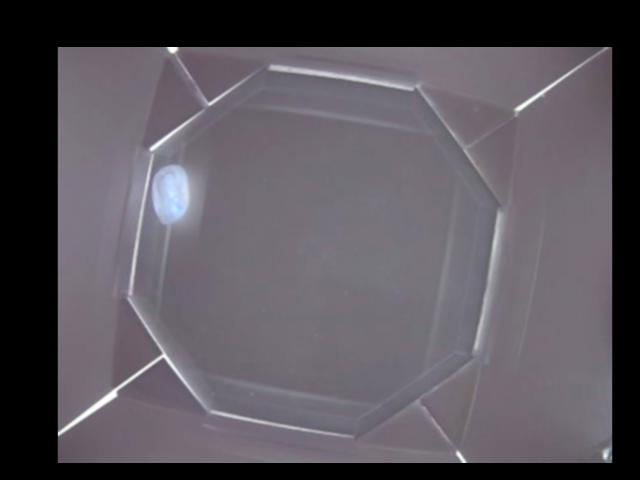Pebble: (153, 164, 189, 225)
